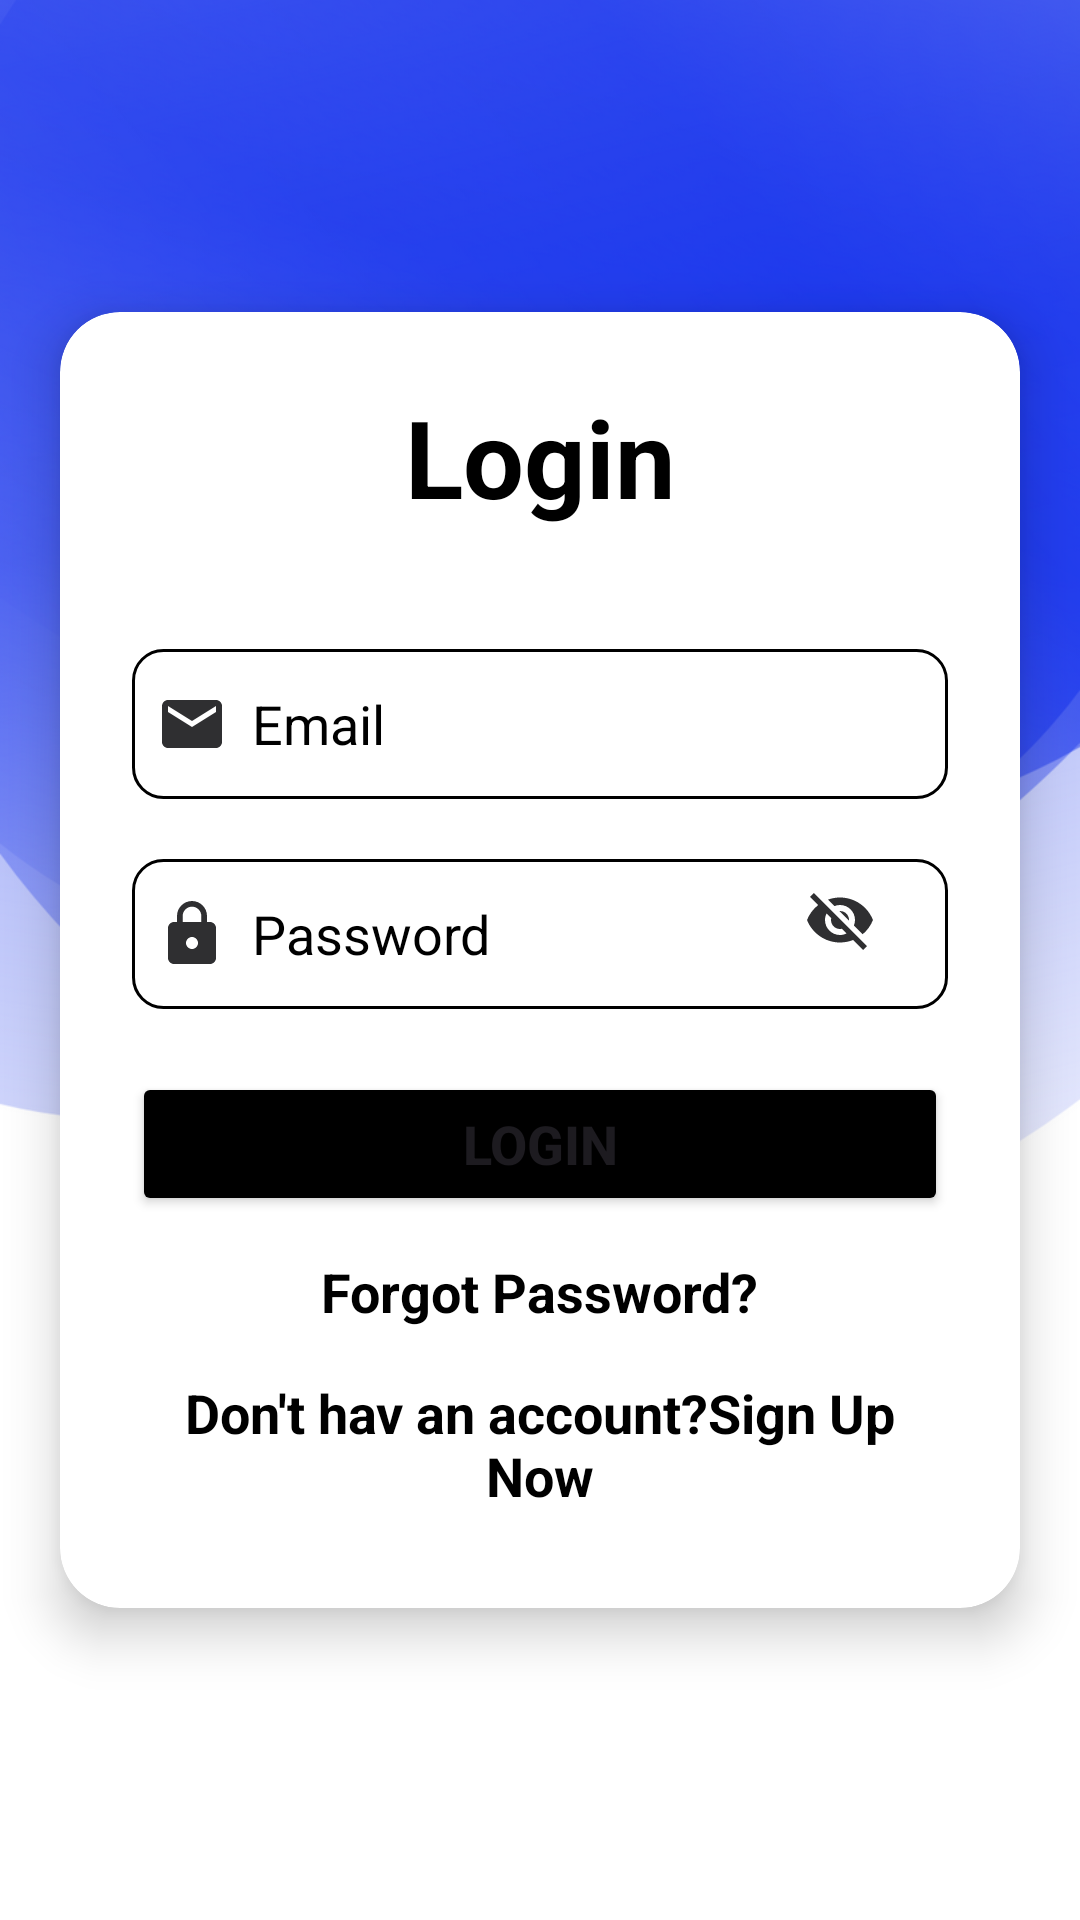

Where icons sit on this 1080px×1920px app screen, as [left=x1, top=y1, right=x2, bottom=y2]:
visibility off: [left=807, top=893, right=873, bottom=950]
